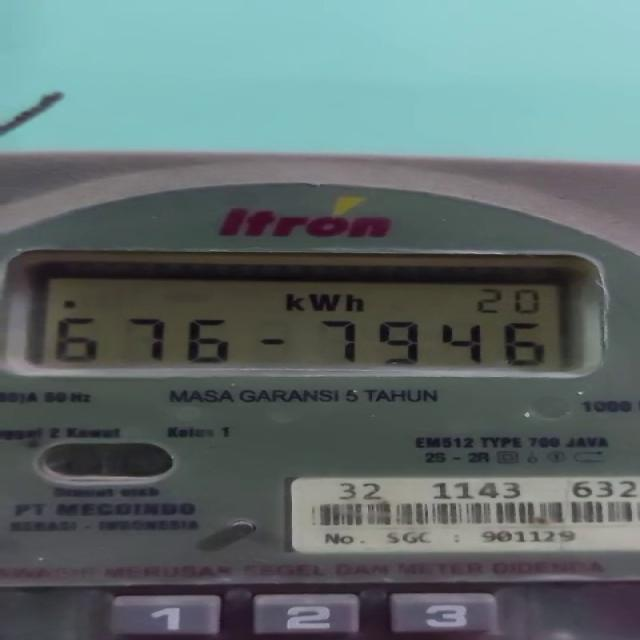LCD: (0, 238, 620, 384)
